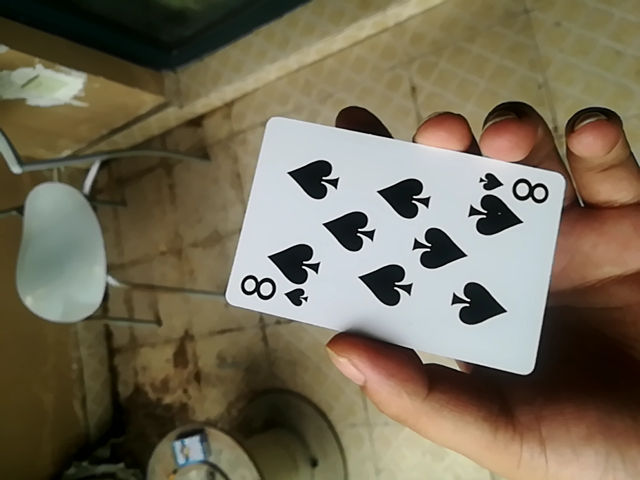ht 8: (220, 118, 574, 373)
